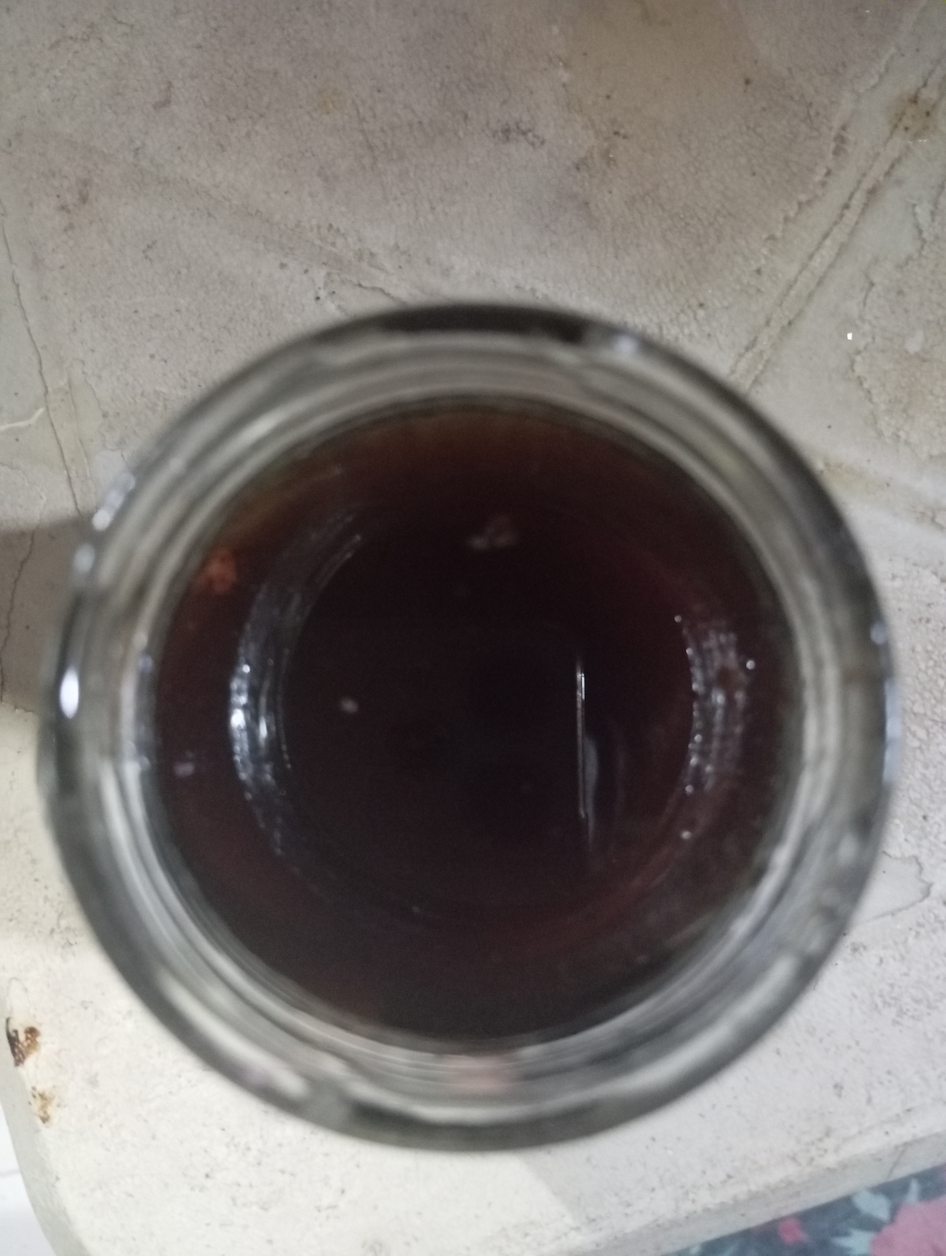non-reusable: (154, 394, 782, 1044)
